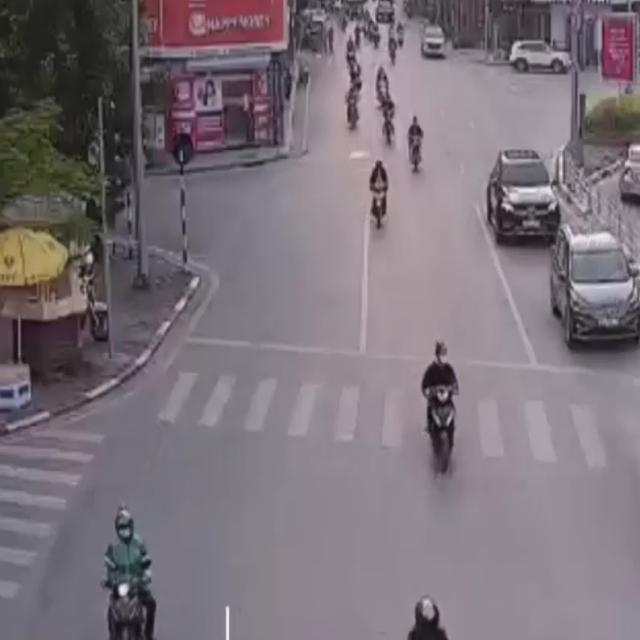car: (548, 217, 640, 353), (483, 144, 561, 249)
motorbike: (97, 505, 167, 640), (416, 334, 469, 486), (394, 578, 450, 640), (365, 150, 393, 232), (404, 108, 430, 178), (380, 91, 400, 146), (344, 79, 363, 135)
